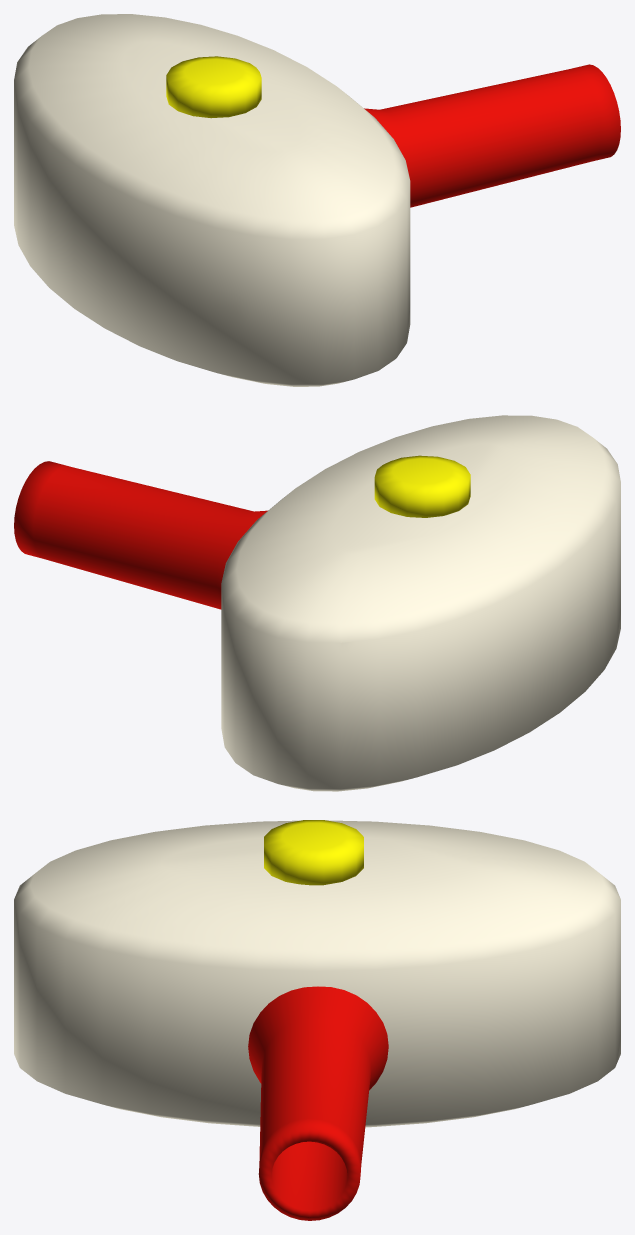
File: TurretColoured.fbx
3 renders of one model, top to bottom at view 1: azimuth 30°, elevation 25°; view 2: azimuth 150°, elevation 25°; view 3: azimuth 270°, elevation 25°, orthographic. The views are drawn at different scales.
Visible parts, largest first — view 1: Cube, Cylinder; view 2: Cube, Cylinder; view 3: Cube, Cylinder.
Part boxes in pixels (bbox=[...]): Cube: bbox=[14, 14, 410, 386]; Cylinder: bbox=[364, 64, 620, 207]; Cube: bbox=[221, 415, 620, 791]; Cylinder: bbox=[14, 461, 267, 609]; Cube: bbox=[14, 820, 620, 1127]; Cylinder: bbox=[248, 986, 388, 1220].
Size of the model in its own units: 507 by 219 by 477.
